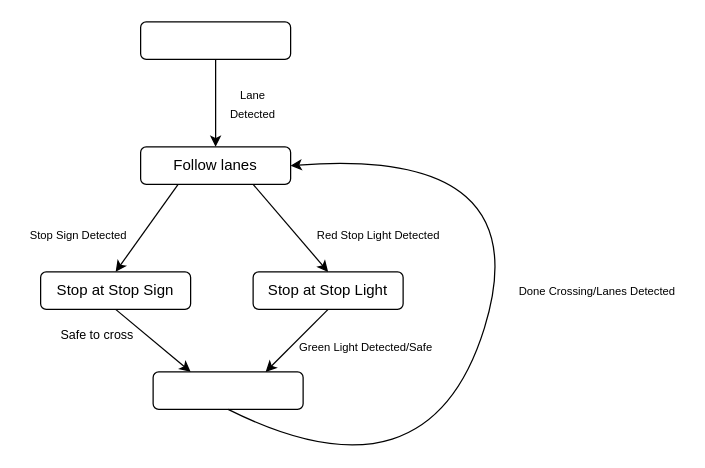
This 705x468 diagram has some shape labels left out. Each missing label, with the centre of its shape:
Cross Intersection: (227,390)
Stopped: (215,40)
